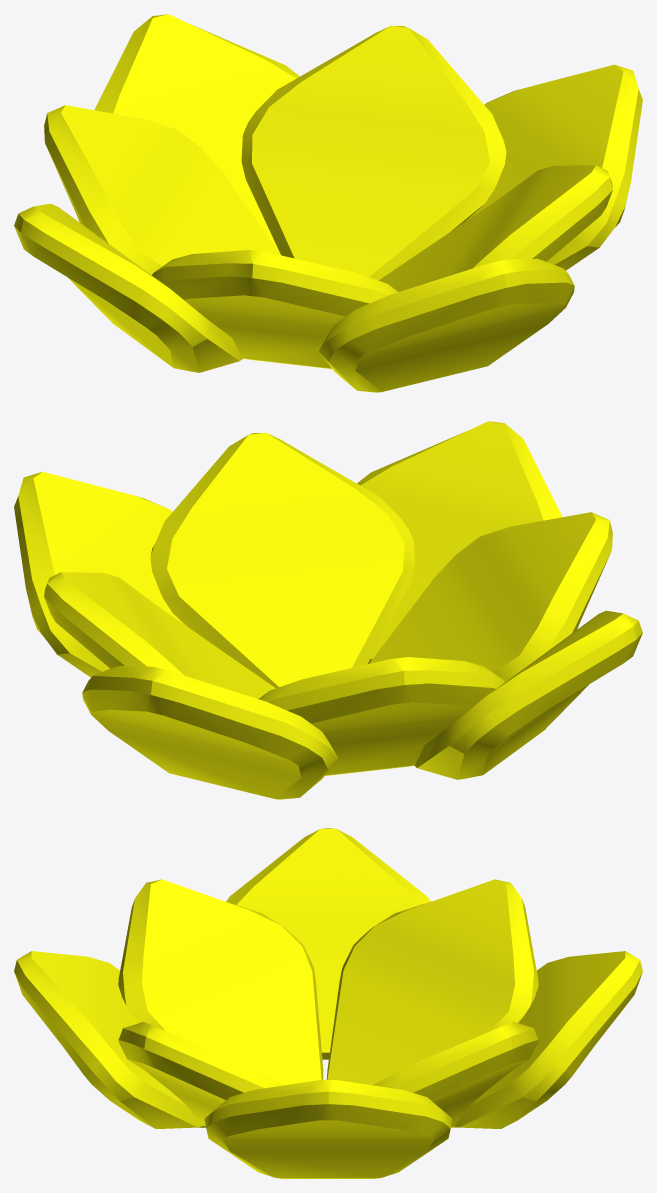
File: Plant_3.glb
3 views of the same model, one above another, from view 1: azimuth 30°, elevation 25°; view 2: azimuth 150°, elevation 25°; view 3: azimuth 270°, elevation 25° (orthographic). The views are drawn at different scales.
Visible parts, largest first — view 1: Plant_3; view 2: Plant_3; view 3: Plant_3.
Boxes of the visible parts, x1=… form: Plant_3: x1=14, y1=14, x2=642, y2=392; Plant_3: x1=14, y1=421, x2=642, y2=799; Plant_3: x1=14, y1=828, x2=642, y2=1178.
Bounding box in the file's own units: 3.32 × 0.8949 × 3.32.
1 material, 1 textured.
